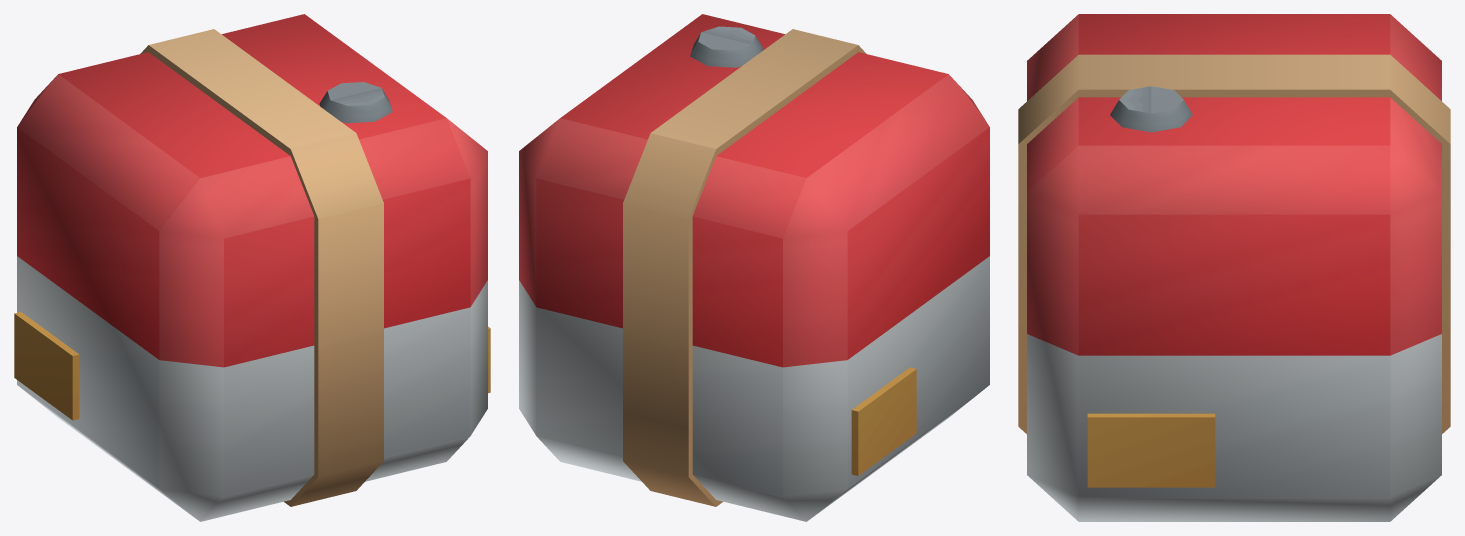
File: cargo_A_packed.glb
3 renders of one model, left to right at view 1: azimuth 30°, elevation 25°; view 2: azimuth 150°, elevation 25°; view 3: azimuth 270°, elevation 25°, orthographic. The views are drawn at different scales.
Visible parts, largest first — view 1: cargo_A_packed; view 2: cargo_A_packed; view 3: cargo_A_packed.
Part boxes in pixels (box(x1,y1,x2,y2)): cargo_A_packed: box(14, 14, 490, 521); cargo_A_packed: box(519, 14, 989, 521); cargo_A_packed: box(1018, 14, 1450, 521).
Size of the model in its own units: 0.5205 by 0.5303 by 0.5205.
Materials: 1 (1 with a texture image).
